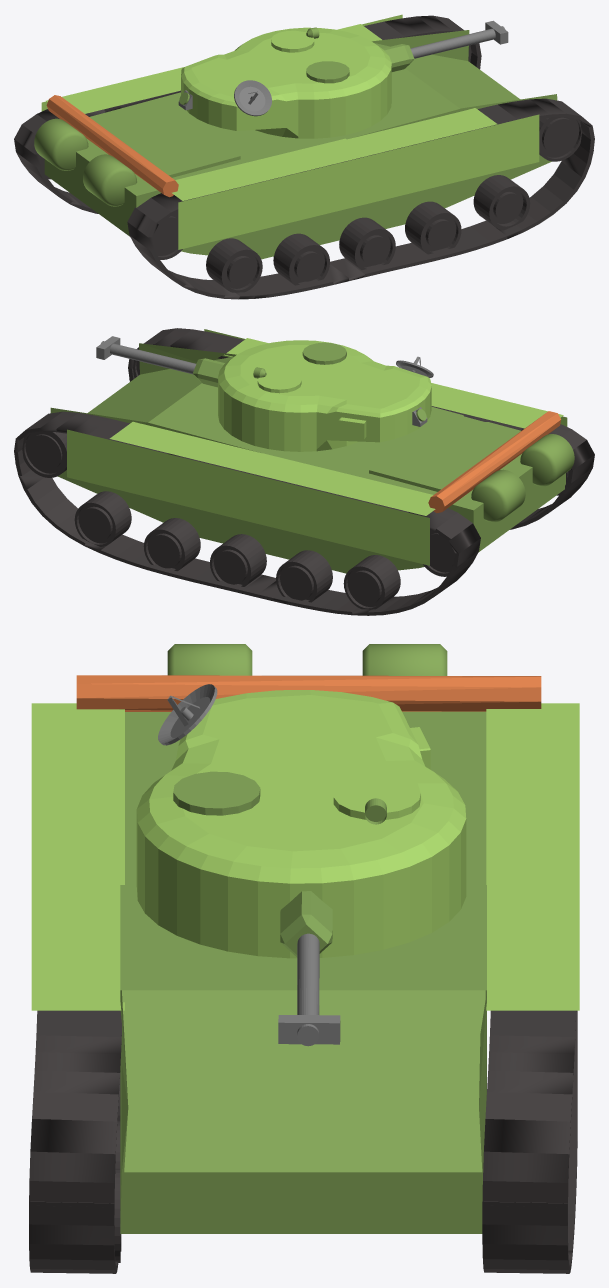
Rendered from ghost.glb.
3 renders of one model, top to bottom at view 1: azimuth 30°, elevation 25°; view 2: azimuth 150°, elevation 25°; view 3: azimuth 270°, elevation 25°, orthographic. The views are drawn at different scales.
Visible parts, largest first — view 1: Cube.001, Plane.003, Cylinder.023, Plane.002, Plane.012, Plane, Cylinder.021, Plane.004, Cylinder.017, Cylinder.014, Cylinder.013, Cylinder.012 (+10 smaller); view 2: Cube.001, Plane.005, Cylinder.023, Plane, Plane.004, Plane.002, Cylinder.021, Plane.012, Cylinder.002, Cylinder.005, Cylinder.004, Cylinder.003 (+9 smaller); view 3: Cube.001, Cylinder.023, Plane.004, Plane.012, Plane, Plane.002, Cylinder.021, Cylinder.028, Cylinder.029, Cylinder, Cylinder.018, Cube.008 (+3 smaller).
Boxes of the visible parts, bbox=[...] form: Cube.001: bbox=[44, 30, 557, 259]; Plane.003: bbox=[178, 114, 539, 249]; Cylinder.023: bbox=[181, 27, 391, 138]; Plane.002: bbox=[127, 98, 594, 299]; Plane.012: bbox=[172, 108, 497, 200]; Plane: bbox=[14, 15, 481, 213]; Cylinder.021: bbox=[46, 95, 178, 197]; Plane.004: bbox=[46, 24, 381, 113]; Cylinder.017: bbox=[206, 238, 262, 292]; Cylinder.014: bbox=[473, 175, 530, 230]; Cylinder.013: bbox=[405, 201, 461, 254]; Cylinder.012: bbox=[339, 217, 395, 269]; Cube.001: bbox=[50, 343, 565, 573]; Plane.005: bbox=[67, 429, 429, 565]; Cylinder.023: bbox=[218, 340, 431, 451]; Plane: bbox=[14, 411, 480, 615]; Plane.004: bbox=[109, 421, 435, 515]; Plane.002: bbox=[128, 328, 594, 529]; Cylinder.021: bbox=[428, 411, 561, 513]; Plane.012: bbox=[224, 338, 563, 428]; Cylinder.002: bbox=[343, 555, 400, 609]; Cylinder.005: bbox=[74, 491, 131, 546]; Cylinder.004: bbox=[143, 518, 200, 571]; Cylinder.003: bbox=[210, 534, 266, 586]; Cube.001: bbox=[120, 711, 486, 1233]; Cylinder.023: bbox=[136, 690, 466, 958]; Plane.004: bbox=[486, 703, 579, 1010]; Plane.012: bbox=[31, 703, 124, 1010]; Plane: bbox=[482, 1010, 577, 1273]; Plane.002: bbox=[29, 1010, 121, 1273]; Cylinder.021: bbox=[76, 675, 541, 711]; Cylinder.028: bbox=[173, 771, 260, 815]; Cylinder.029: bbox=[333, 776, 420, 819]; Cylinder: bbox=[362, 644, 447, 675]; Cylinder.018: bbox=[167, 644, 252, 675]; Cube.008: bbox=[280, 891, 332, 957].
Size of the model in its own units: 11.05 by 4.25 by 5.75.
